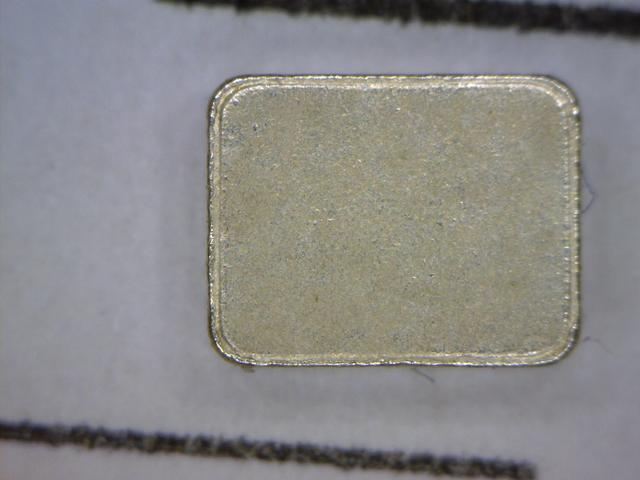nok: (200, 66, 591, 371)
